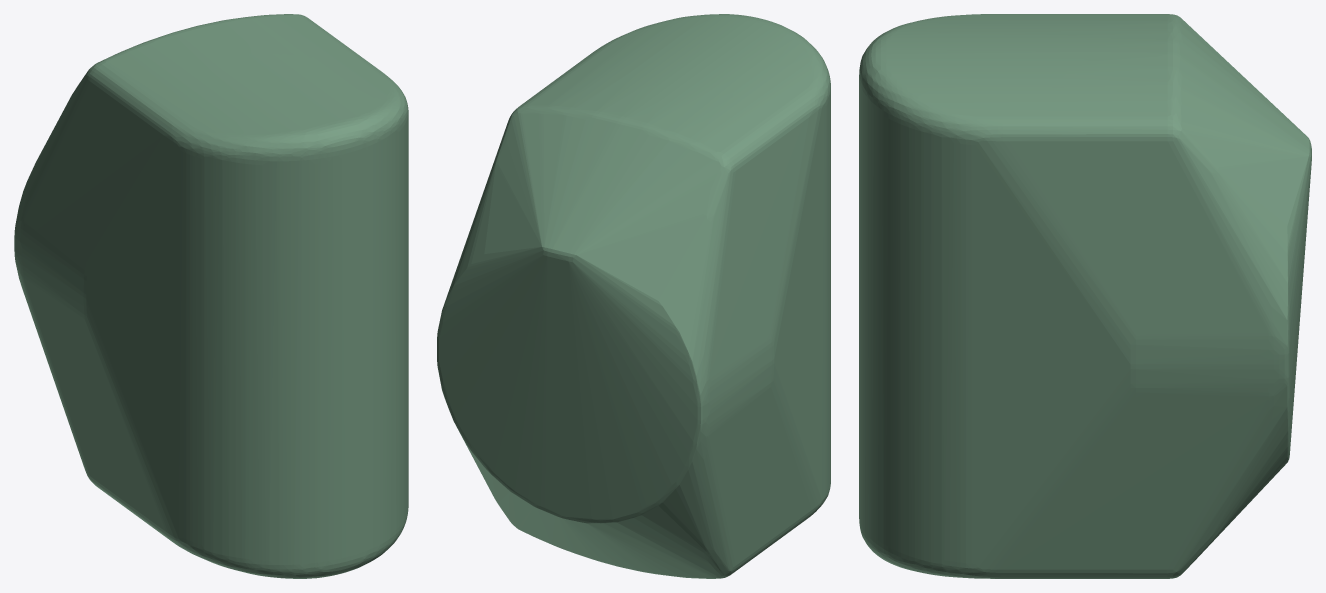
Rendered from head_l2.obj.
3 renders of one model, left to right at view 1: azimuth 30°, elevation 25°; view 2: azimuth 150°, elevation 25°; view 3: azimuth 270°, elevation 25°, orthographic. The views are drawn at different scales.
Parts seen in each view (by area): view 1: geometry_0; view 2: geometry_0; view 3: geometry_0.
Part boxes in pixels (bbox=[...]): geometry_0: bbox=[14, 14, 408, 578]; geometry_0: bbox=[437, 14, 830, 578]; geometry_0: bbox=[859, 14, 1311, 578].
Bounding box in the file's own units: 0.0753 × 0.1213 × 0.1023.
